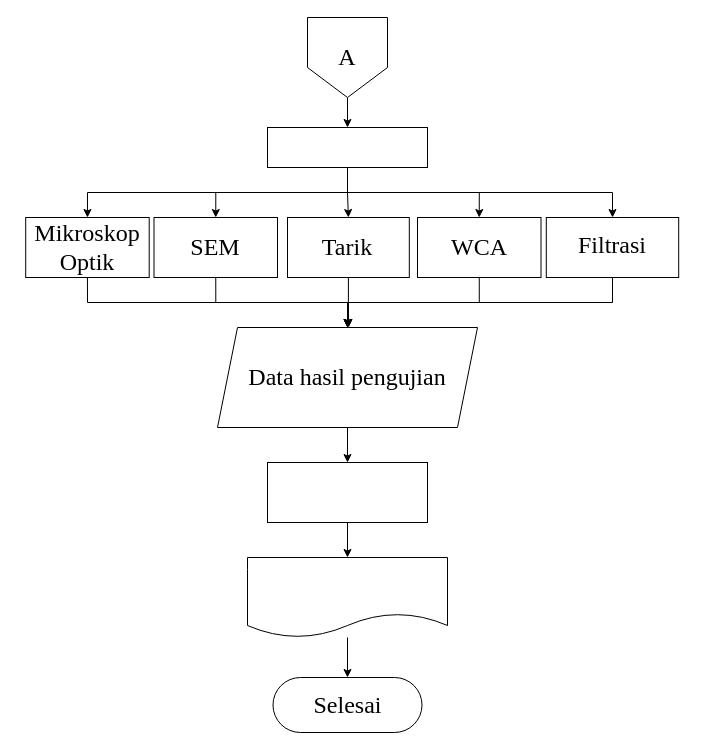
This 704x750 diagram has some shape labels left out. Each missing label, with the box of its shape:
Analisis: (266, 462, 428, 522)
Kesimpulan: (246, 556, 448, 638)
Pengujian: (266, 126, 428, 168)
